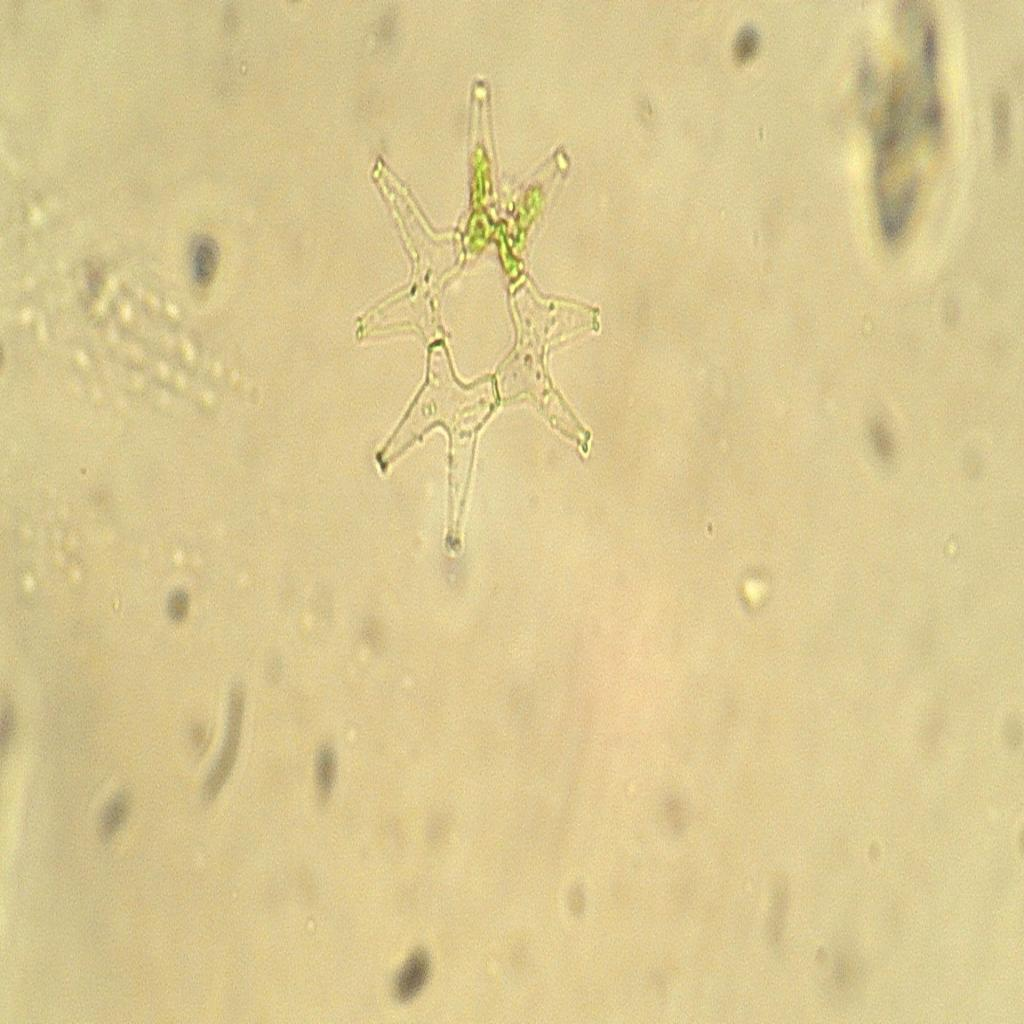Pediastrum_75TH: (337, 74, 619, 583)
